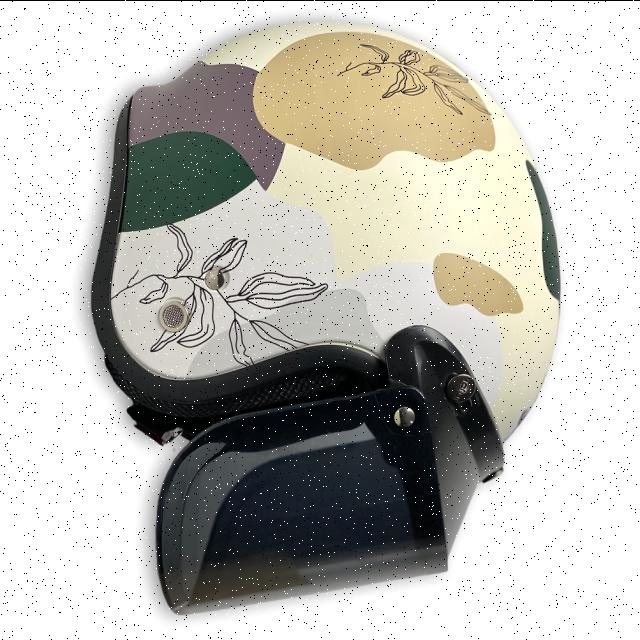Helmet: (88, 11, 564, 613)
